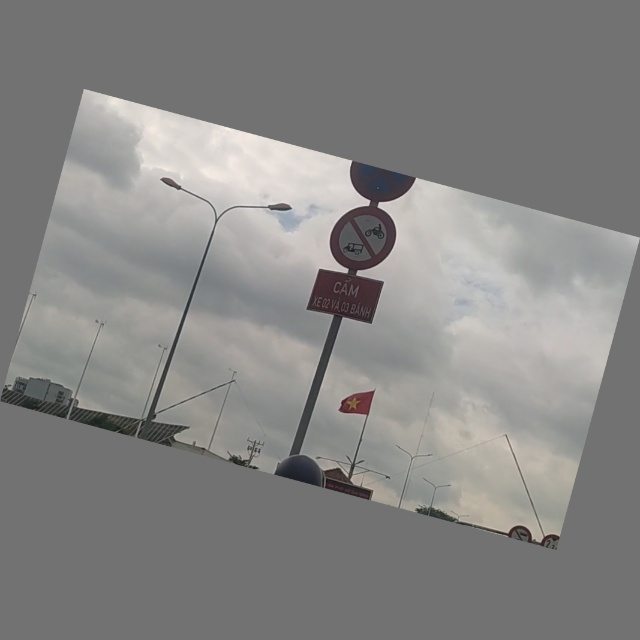P.107: (506, 524, 535, 545)
P.111: (324, 198, 402, 280)
P.117*: (541, 532, 560, 551)
P.130: (338, 166, 417, 210)
